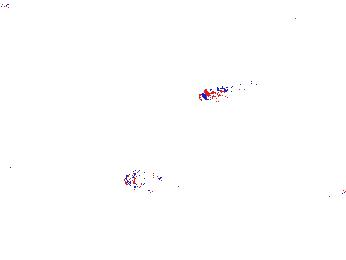X-ray fish: (122, 168, 163, 192), (301, 177, 312, 213)
glassfish: (319, 183, 346, 208)
red belly glassfish: (199, 83, 248, 103)
